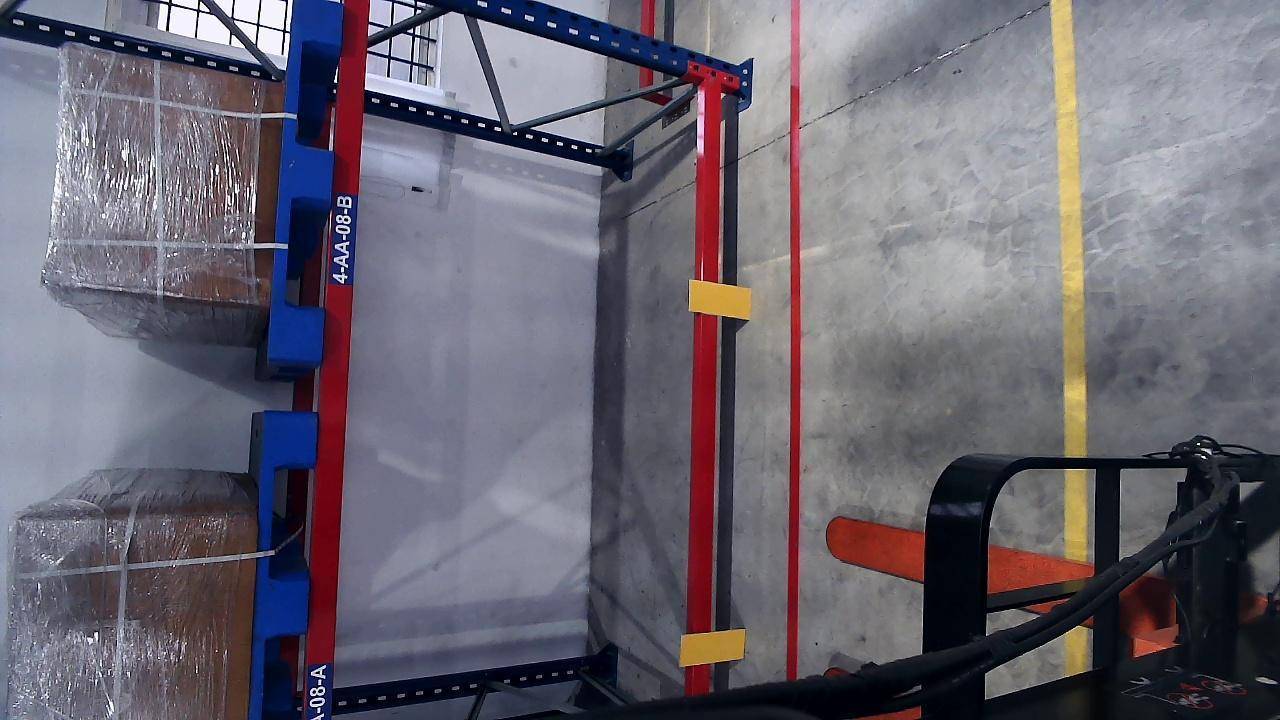red_line: (785, 0, 803, 679)
yellow_line: (1051, 1, 1090, 671)
